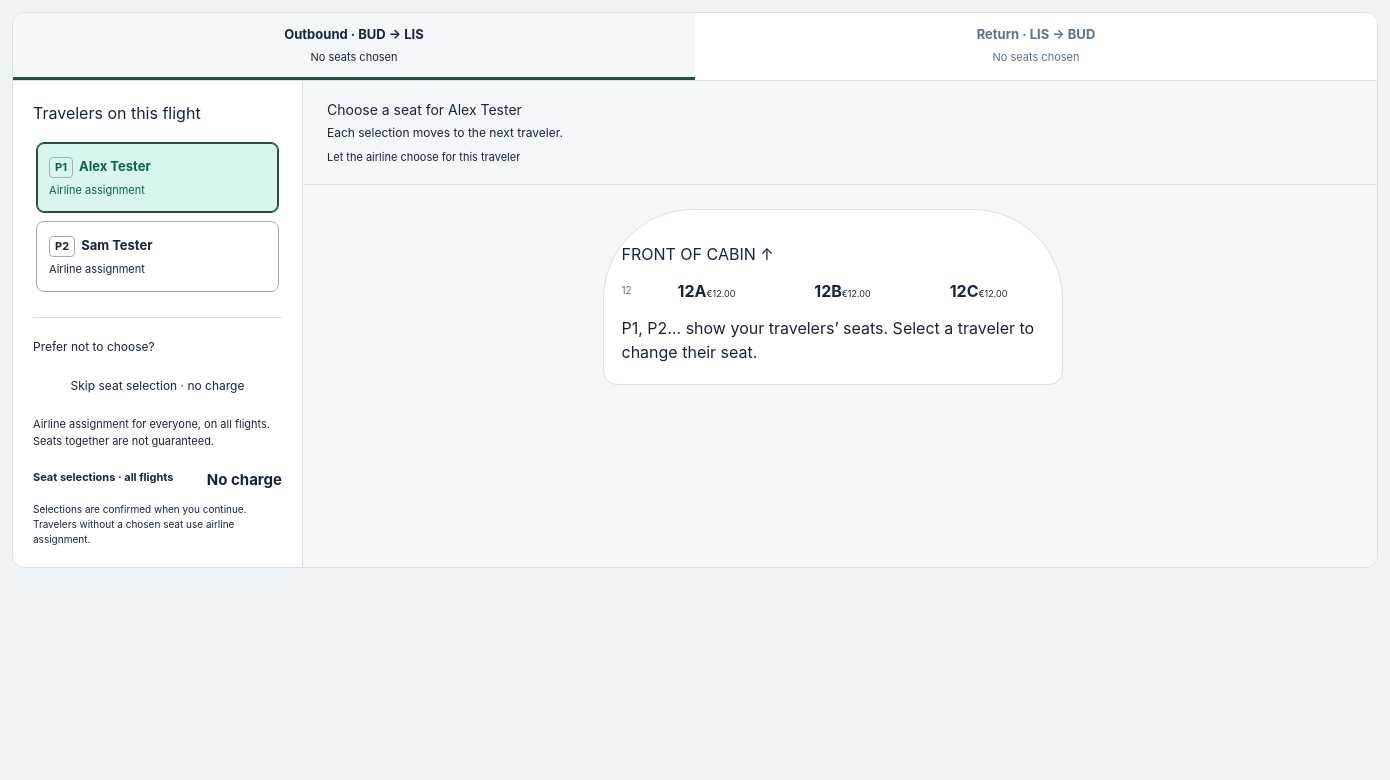
Test case: tracks return-flight seats independently and restores outbound selections
What coordinates should you click on to do the following:
click the button "12A€12.00"
I would click on:
 (706, 291)
Its box is [642,266,772,316].
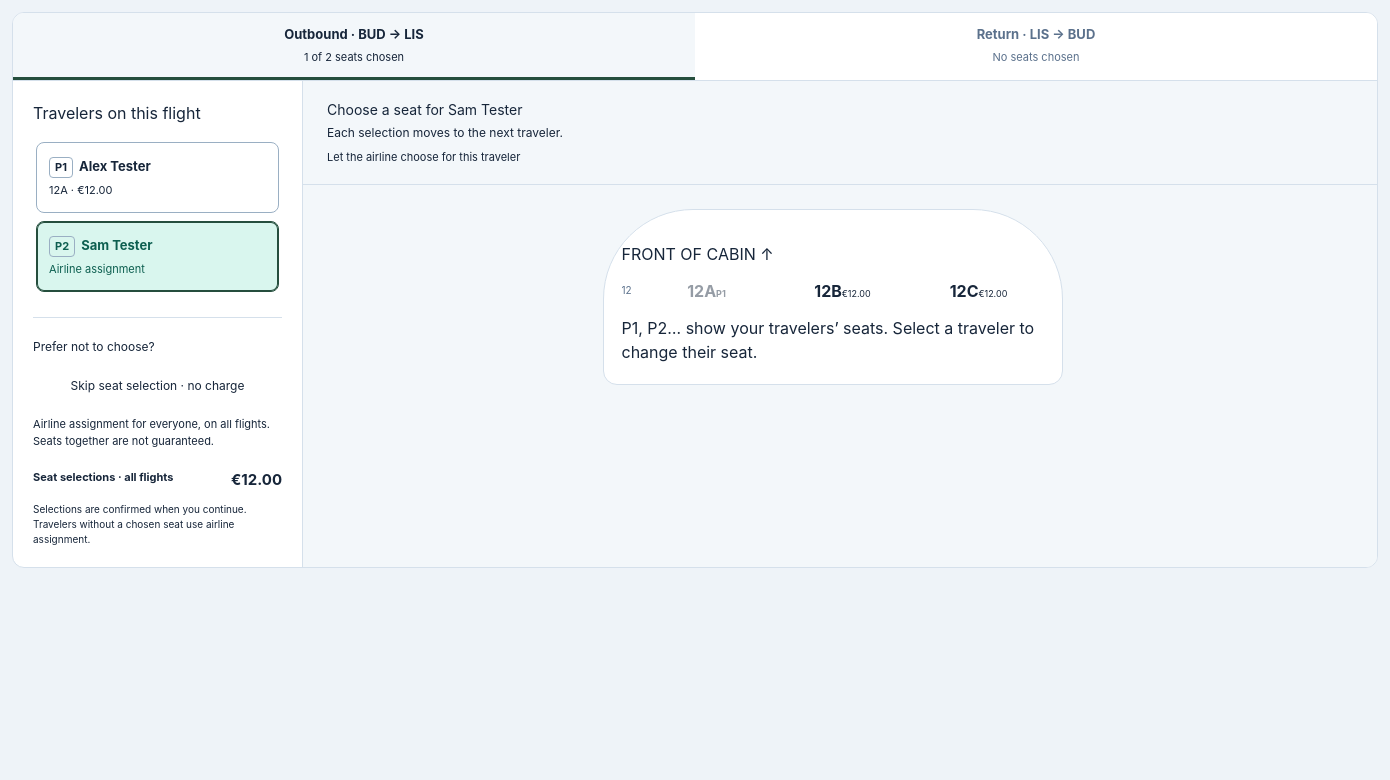
What coordinates should you click on to do the following:
click the button "12B€12.00"
I would click on:
 (842, 291)
Its box is [778,266,908,316].
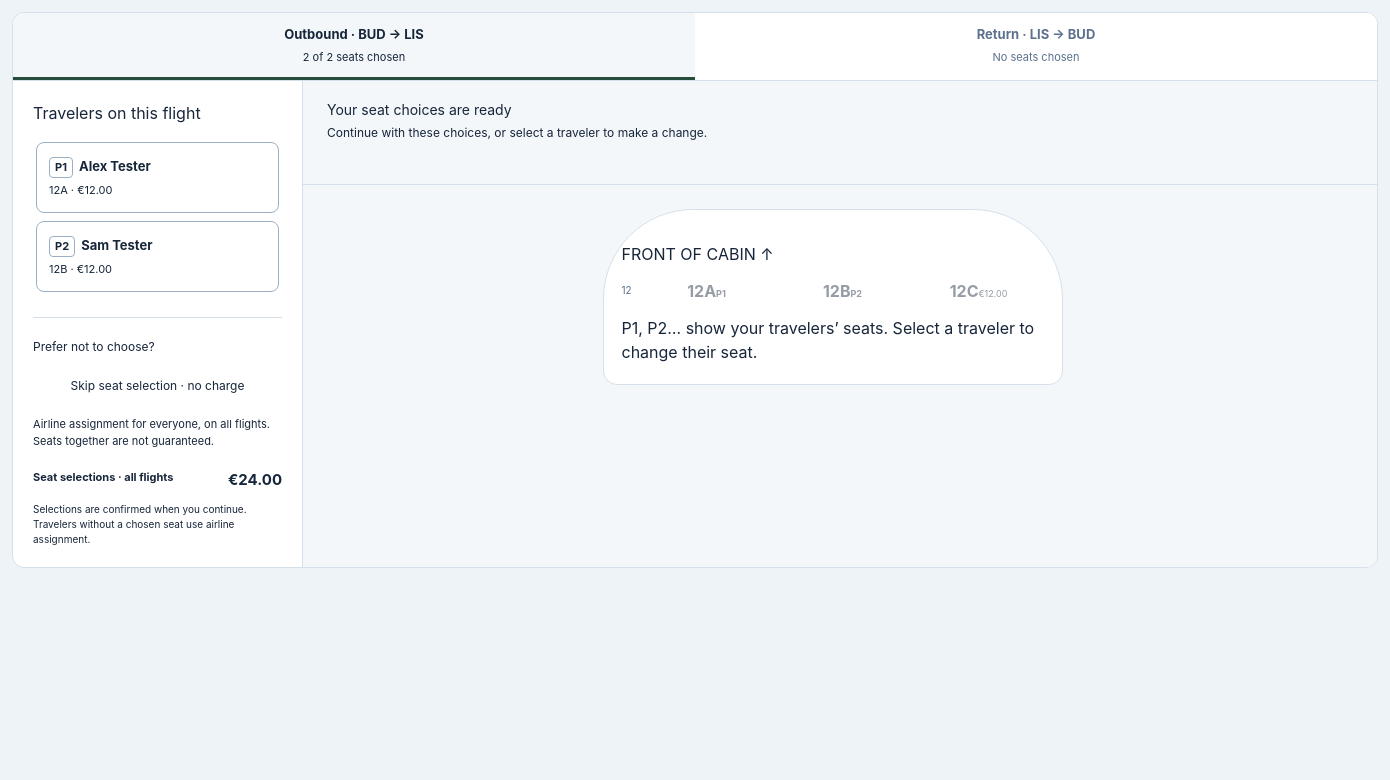
What coordinates should you click on to do the following:
click the button "Return · LIS → BUD No seats chosen"
I would click on:
 (1036, 46)
Its box is [695,13,1377,80].
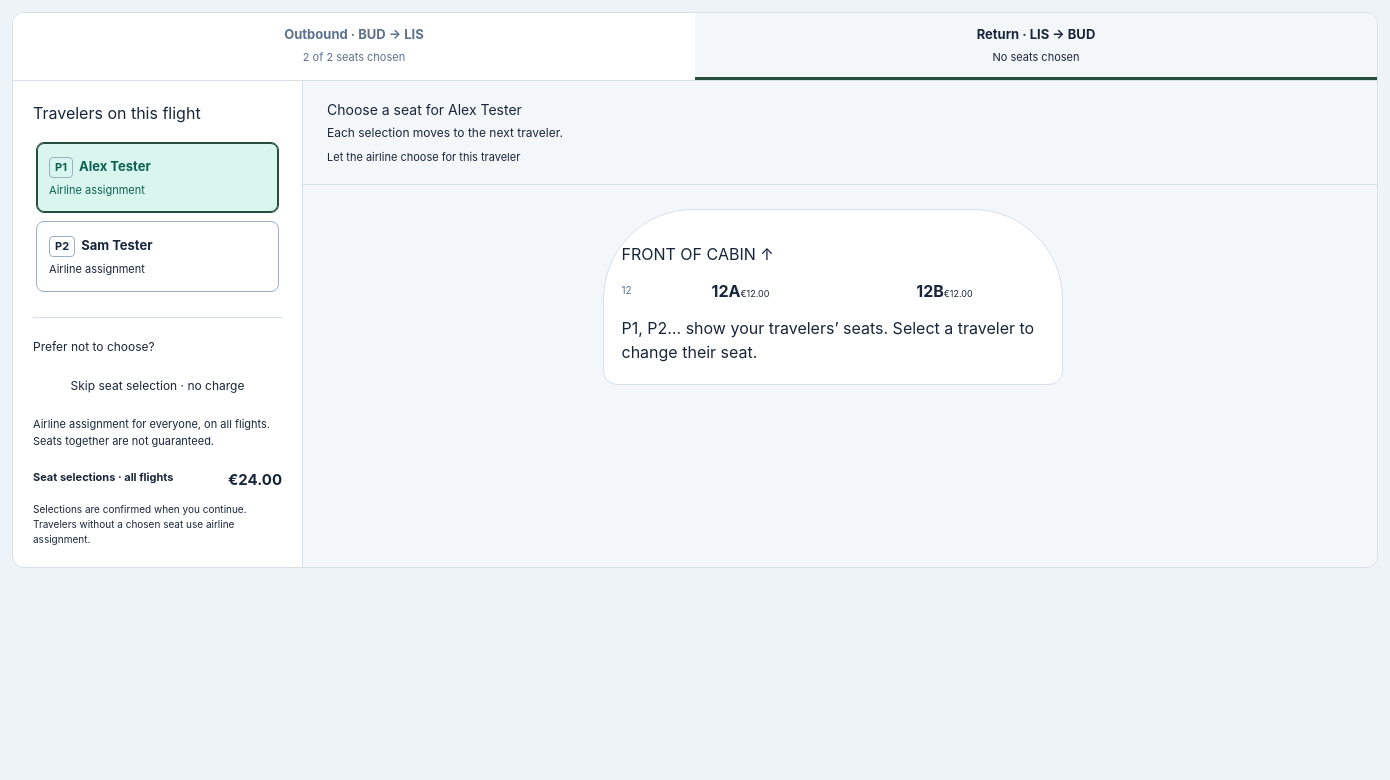
Result: the button "P1 Alex Tester Airline assignment" is pressed at [36,142,279,213]
What coordinates should you click on to do the following:
click the button "12B€12.00"
I would click on:
 (944, 291)
Its box is [846,266,1044,316].
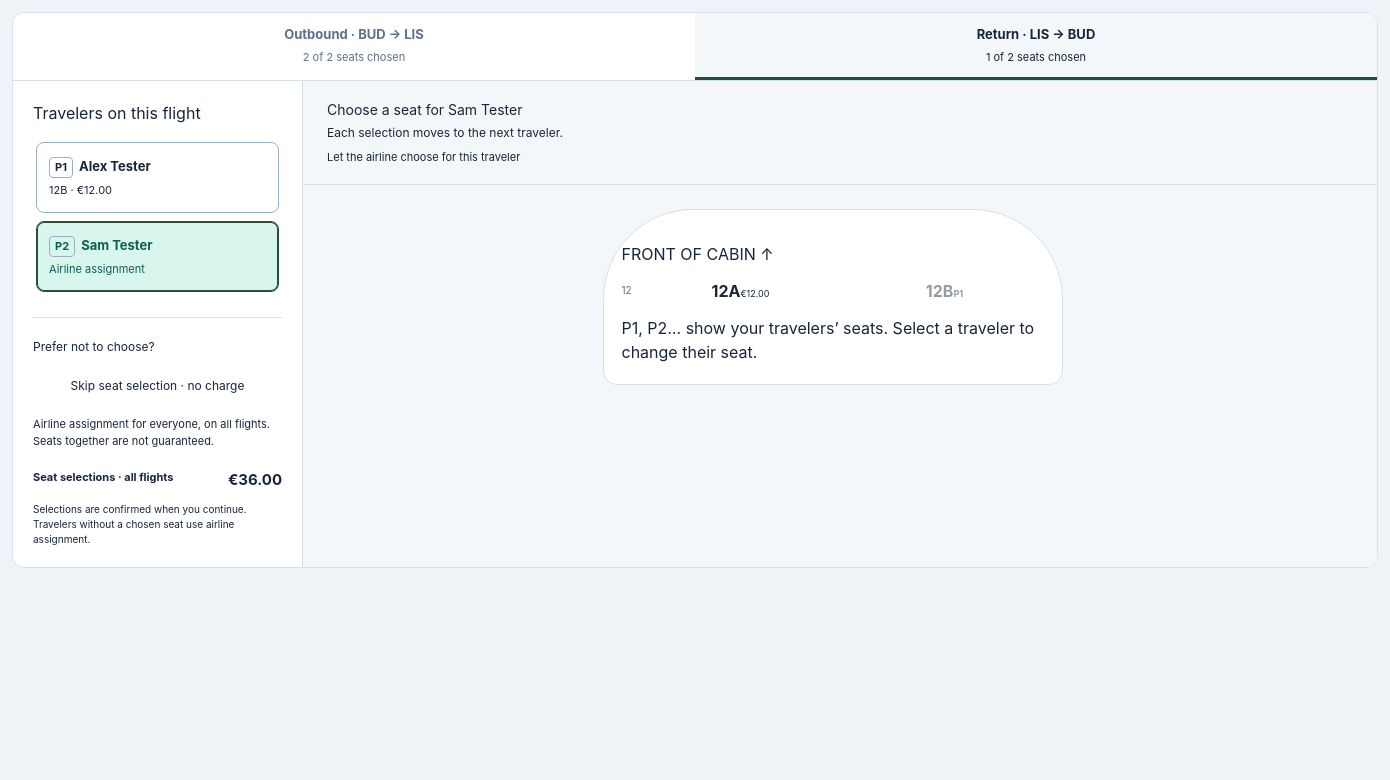
What coordinates should you click on to do the following:
click the button "12A€12.00"
I would click on:
 (740, 291)
Its box is [642,266,840,316].
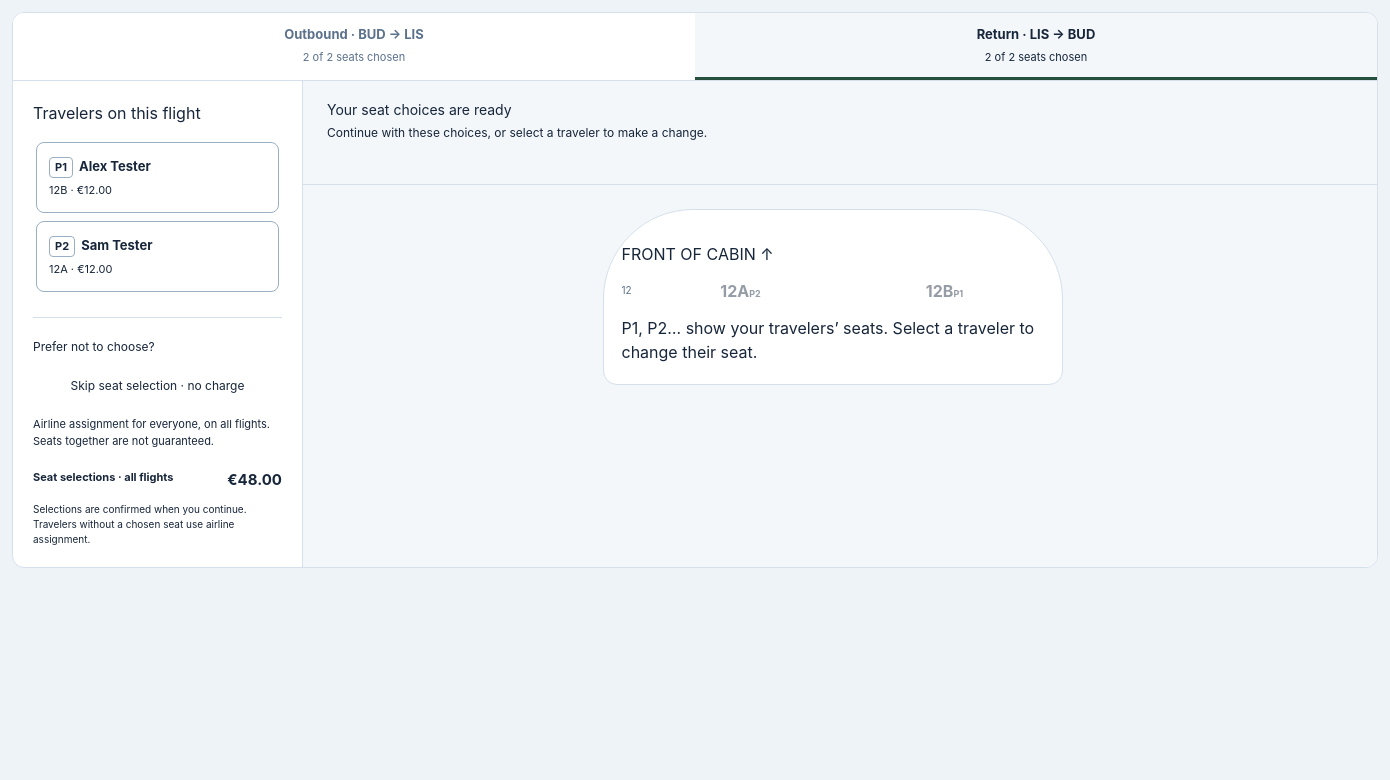
What coordinates should you click on to do the following:
click the button "Outbound · BUD → LIS 2 of 2 seats chosen"
I would click on:
 (354, 46)
Its box is [13,13,695,80].
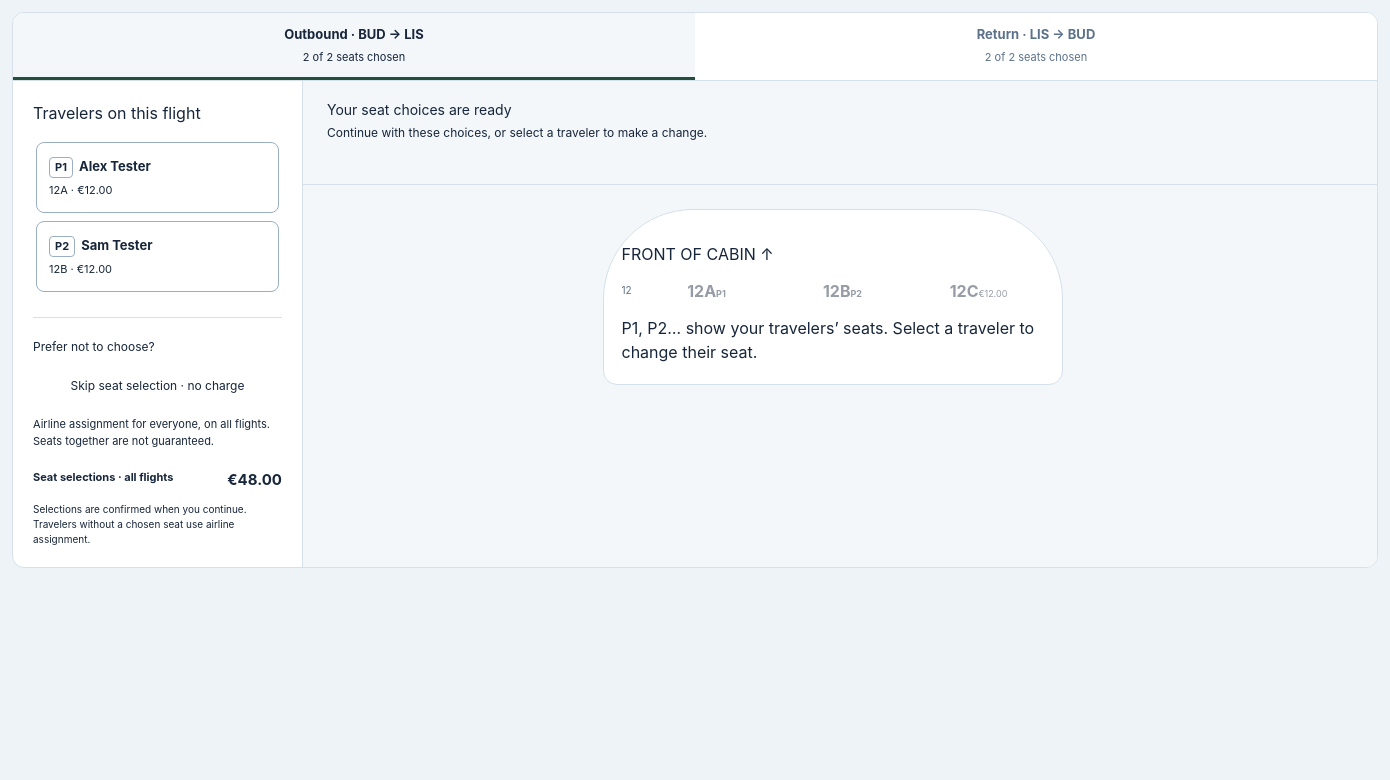
Result: the text "€48.00" is shown at [227,469,282,492]
Result: the button "P1 Alex Tester 12A · €12.00" is shown at [36,142,279,213]
Result: the button "P2 Sam Tester 12B · €12.00" is shown at [36,221,279,292]
